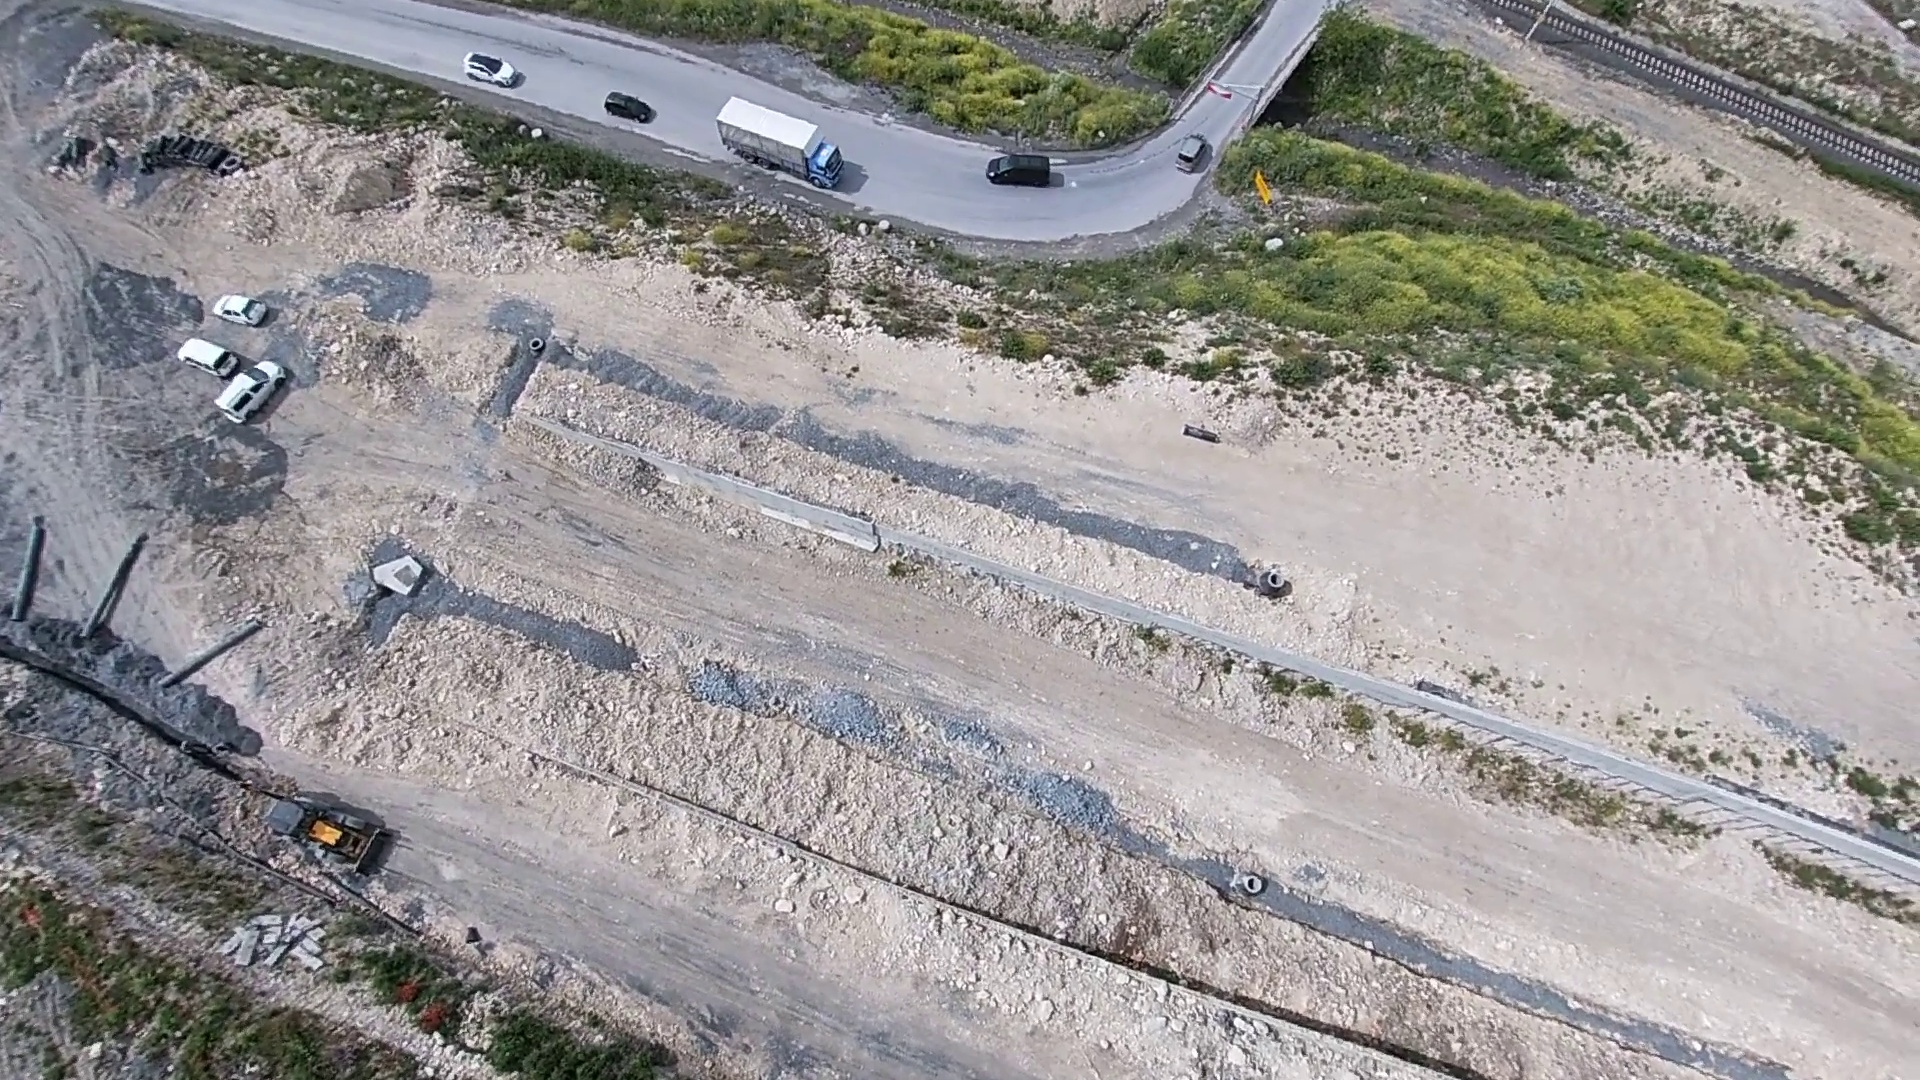araba: (211, 352, 289, 427), (171, 319, 237, 382), (459, 45, 522, 95), (986, 145, 1054, 190), (211, 290, 273, 332), (603, 88, 659, 124), (1174, 132, 1215, 179)
kamyon: (715, 90, 849, 191)
traktor: (258, 793, 411, 874)
